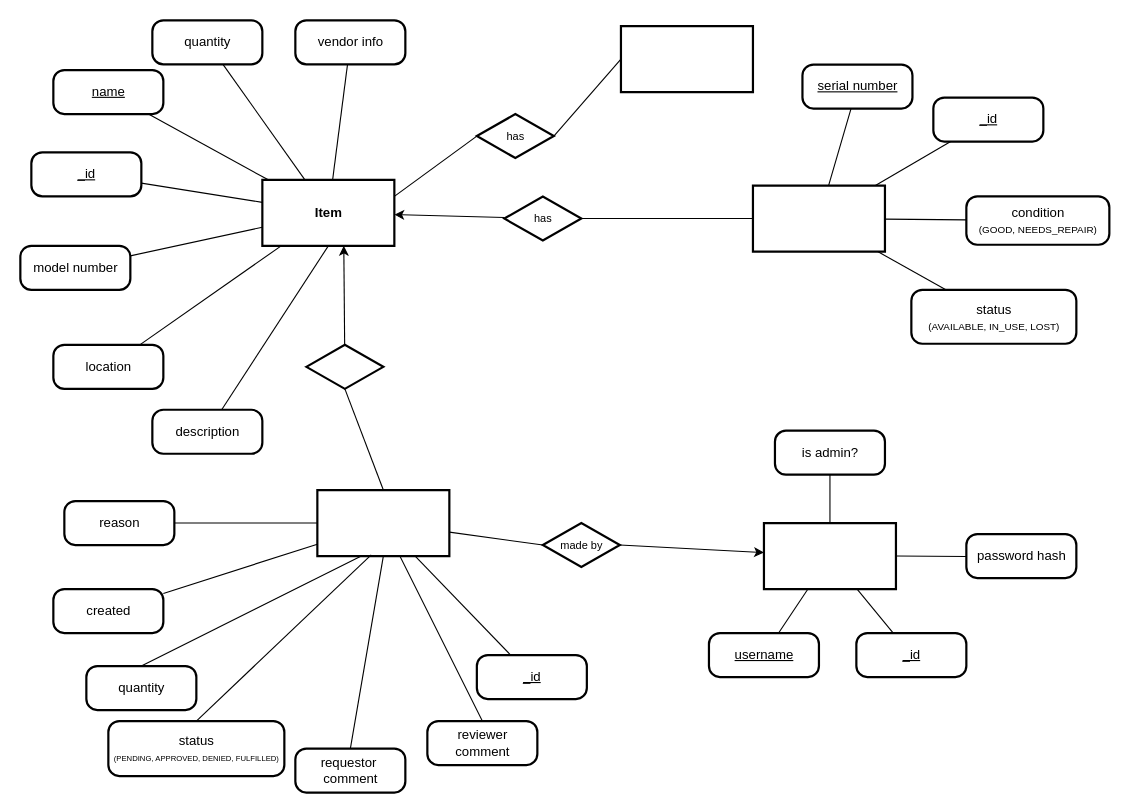
Some shapes in this 1129 by 812 pixel diagram are drawn without their labels. Here are the shapes that lost their labels. From the top down, the centre of each, then its label:
point 686,58: Tag
point 818,218: Instance
point 344,366: for
point 383,522: Request
point 829,555: User
